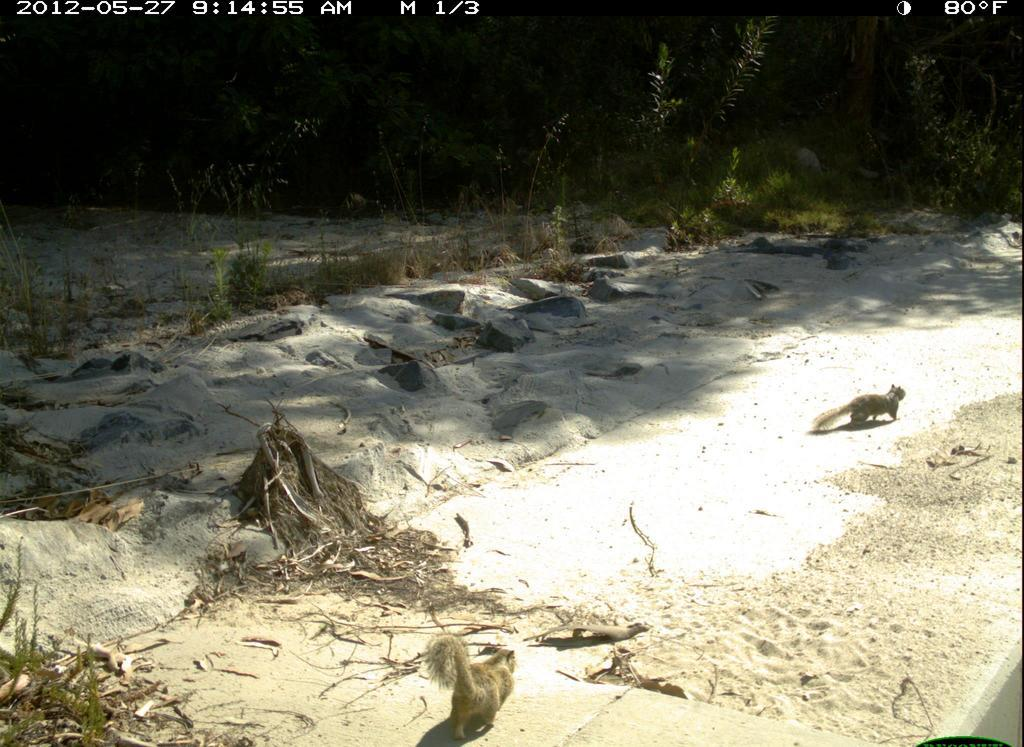squirrel: (423, 621, 527, 740), (811, 376, 916, 445)
